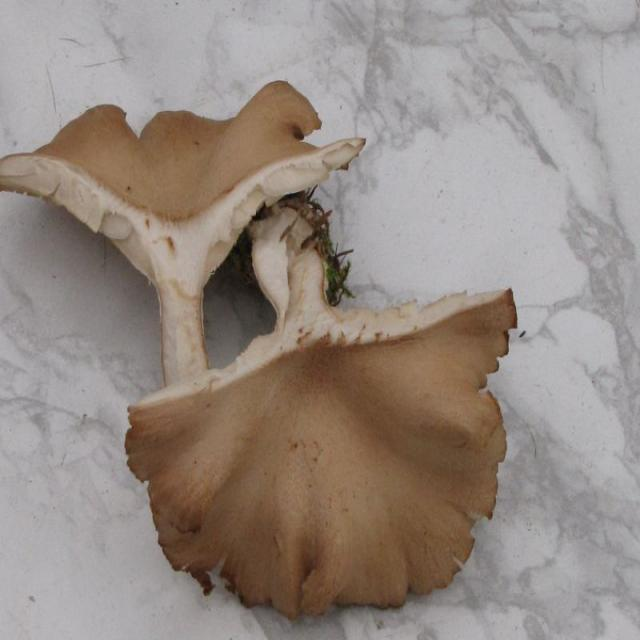Clitocybe maxima: (126, 229, 517, 623), (3, 79, 367, 382)
